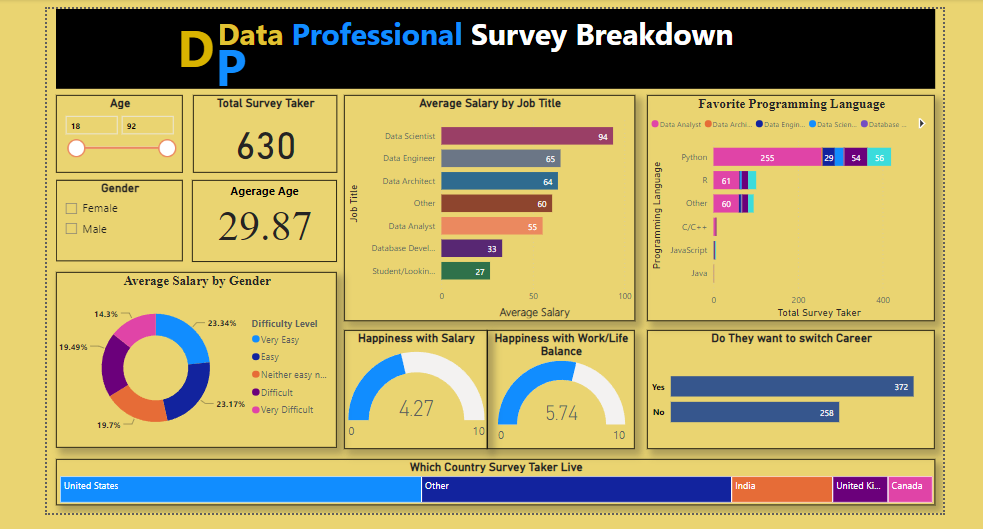

The dashboard page shown, as its layout file describes it:
{"tool":"powerbi","page":{"name":"Page 1","canvas":[1280,720],"ordinal":0},"visuals":[{"type":"card","title":"Total Survey Taker","fields":{"Values":["Data Professional Survey.Total Survey Taker"]},"box":[208.6,122.9,205.7,111.4],"z":0},{"type":"textbox","box":[12.9,0,1255.7,114.3],"z":1000},{"type":"clusteredBarChart","title":"Average Salary by Job Title ","fields":{"Category":["Data Professional Survey.Q1 - Which Title Best Fits your Current Role?.1"],"Y":["Avg(Data Professional Survey.Average Salary)"]},"box":[424.4,122.9,415.6,323.4],"z":2000},{"type":"card","fields":{"Values":["Data Professional Survey.Agerage Age"]},"box":[207.1,244.3,207.1,117.1],"z":3000,"group":"g1"},{"type":"barChart","title":"Favorite Programming Language","fields":{"Category":["Data Professional Survey.Q5 - Favorite Programming Language.1"],"Y":["Data Professional Survey.Total Survey Taker"],"Series":["Data Professional Survey.Q1 - Which Title Best Fits your Current Role?.1"]},"box":[857.6,122.9,411.2,323.4],"z":3000},{"type":"gauge","title":"Happiness with Work/Life Balance","fields":{"Y":["Avg(Data Professional Survey.Q6 - How Happy are you in your Current Position with the following? (Work/Life Balance))"],"MinValue":["Min(Data Professional Survey.Q6 - How Happy are you in your Current Position with the following? (Work/Life Balance))1"],"MaxValue":["Max(Data Professional Survey.Q6 - How Happy are you in your Current Position with the following? (Work/Life Balance))2"]},"box":[629.3,458,210.7,169.8],"z":4000},{"type":"gauge","title":"Happiness with Salary","fields":{"Y":["Avg(Data Professional Survey.Q6 - How Happy are you in your Current Position with the following? (Salary))"],"MinValue":["Min(Data Professional Survey.Q6 - How Happy are you in your Current Position with the following? (Salary))"],"MaxValue":["Max(Data Professional Survey.Q6 - How Happy are you in your Current Position with the following? (Salary))"]},"box":[424.4,458,204.9,169.8],"z":5000},{"type":"donutChart","title":"Average Salary by Gender","fields":{"Category":["Data Professional Survey.Q7 - How difficult was it for you to break into Data?"],"Y":["Avg(Data Professional Survey.Average Salary)"]},"box":[12.9,375.7,401.4,251.4],"z":6000},{"type":"slicer","title":"Age","fields":{"Values":["Data Professional Survey.Q10 - Current Age"]},"box":[12.9,122.9,181.4,111.4],"z":7000},{"type":"slicer","title":"Gender","fields":{"Values":["Data Professional Survey.Q9 - Male/Female?"]},"box":[12.9,244.3,181.4,115.7],"z":8000},{"type":"barChart","title":"Do They want to switch Career","fields":{"Category":["Data Professional Survey.Q2 - Did you switch careers into Data?"],"Y":["CountNonNull(Data Professional Survey.Q2 - Did you switch careers into Data?)"]},"box":[857.6,458,411.2,169.8],"z":9000},{"type":"textbox","box":[181.5,0,80.5,114.1],"z":10000},{"type":"textbox","box":[235.6,27.8,70.2,112.7],"z":11000},{"type":"textbox","box":[238.5,0,781.5,67.3],"z":12000},{"type":"textbox","box":[207.1,244.3,207.1,43.5],"z":13000,"group":"g1"},{"type":"group","id":"g1","title":"Group 1","box":[207.1,244.3,207.1,117.1],"z":13000},{"type":"treemap","title":"Which Country Survey Taker Live","fields":{"Values":["CountNonNull(Data Professional Survey.Q11 - Which Country do you live in?.1)"],"Group":["Data Professional Survey.Q11 - Which Country do you live in?.1"]},"box":[12.9,642.9,1255.7,65.7],"z":14000}]}

Visuals, with their boxes in screenshot pixels (x1, y1, x2, y2):
"Total Survey Taker" card: 190,91,334,169
textbox: 53,5,932,85
"Average Salary by Job Title " clusteredBarChart: 341,91,632,318
card - Data Professional Survey.Agerage Age: 189,176,334,258
"Favorite Programming Language" barChart: 644,91,932,318
"Happiness with Work/Life Balance" gauge: 484,326,632,445
"Happiness with Salary" gauge: 341,326,484,445
"Average Salary by Gender" donutChart: 53,268,334,444
"Age" slicer: 53,91,180,169
"Gender" slicer: 53,176,180,257
"Do They want to switch Career" barChart: 644,326,932,445
textbox: 171,5,227,85
textbox: 209,24,258,103
textbox: 211,5,758,52
textbox: 189,176,334,207
"Group 1" group: 189,176,334,258
"Which Country Survey Taker Live" treemap: 53,455,932,501
